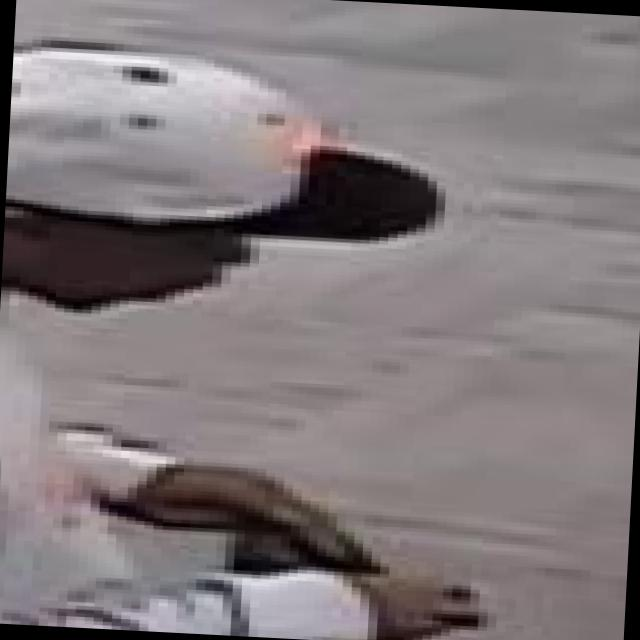Guns: (170, 431, 424, 604)
